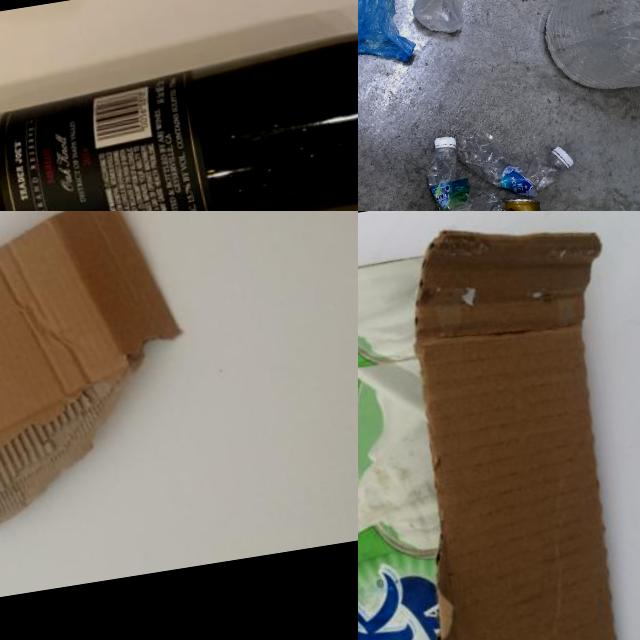garrafa de vidro: (0, 24, 358, 211)
garrafa plástica: (533, 0, 640, 103), (466, 114, 560, 201), (429, 149, 496, 211)
lata: (473, 190, 545, 211)
papelão: (358, 225, 640, 640), (0, 211, 212, 568)
sacola plástica: (395, 0, 572, 50)
tampa plástica: (548, 140, 574, 170), (434, 128, 459, 154)
